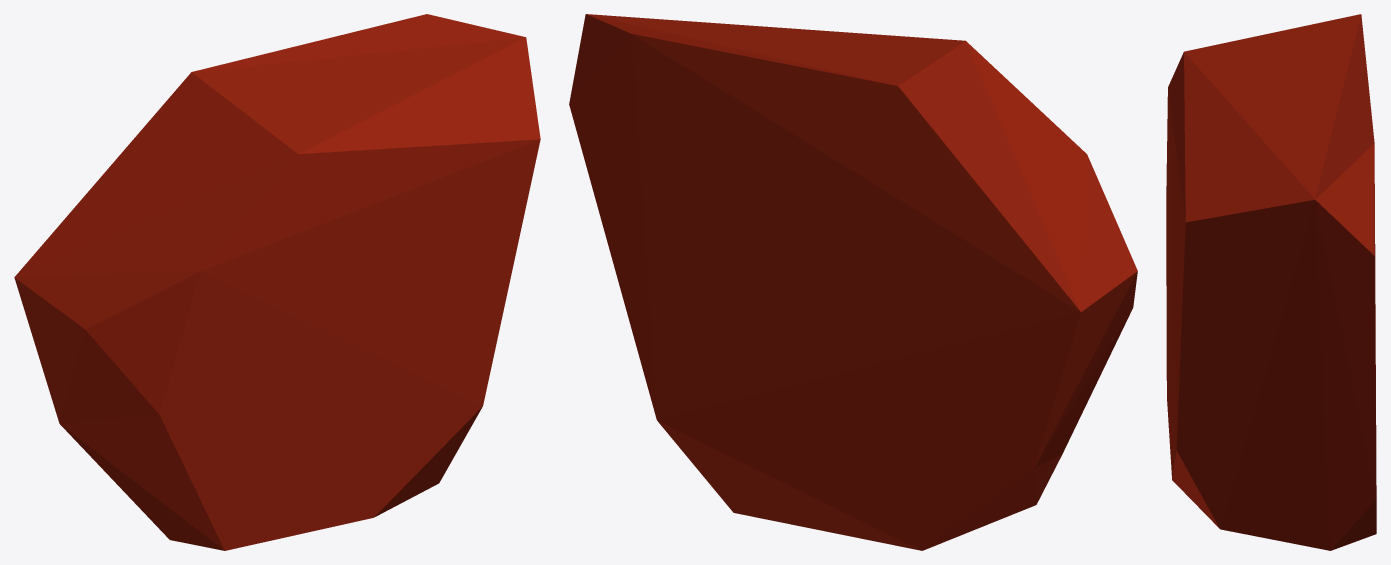
Rendered from SM_Simple_Rock_01.fbx.
The picture shows the model from 3 angles, left to right: view 1: azimuth 30°, elevation 25°; view 2: azimuth 150°, elevation 25°; view 3: azimuth 270°, elevation 25°; orthographic projection. The views are drawn at different scales.
Visible parts, largest first — view 1: SM_Simple_Rock_01; view 2: SM_Simple_Rock_01; view 3: SM_Simple_Rock_01.
Part boxes in pixels (x1,y1,x2,y2): SM_Simple_Rock_01: (14, 14, 540, 550); SM_Simple_Rock_01: (569, 14, 1137, 550); SM_Simple_Rock_01: (1166, 14, 1376, 550).
Size of the model in its own units: 37.46 by 31.43 by 13.45.
